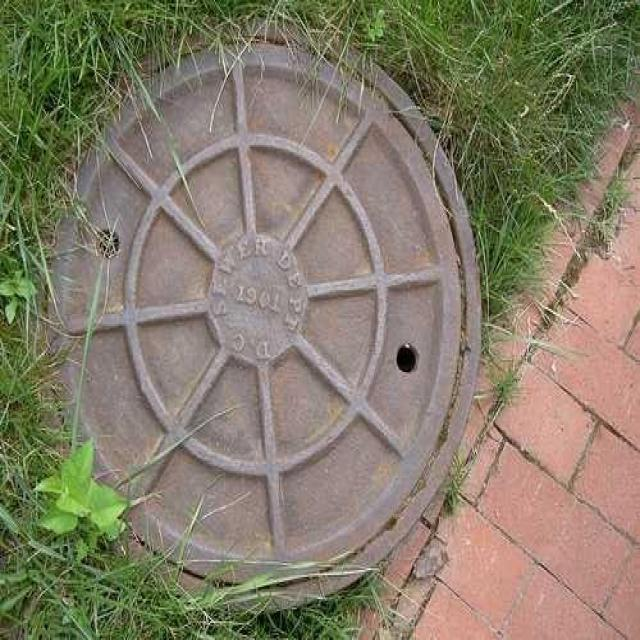manhole: (54, 45, 481, 604)
